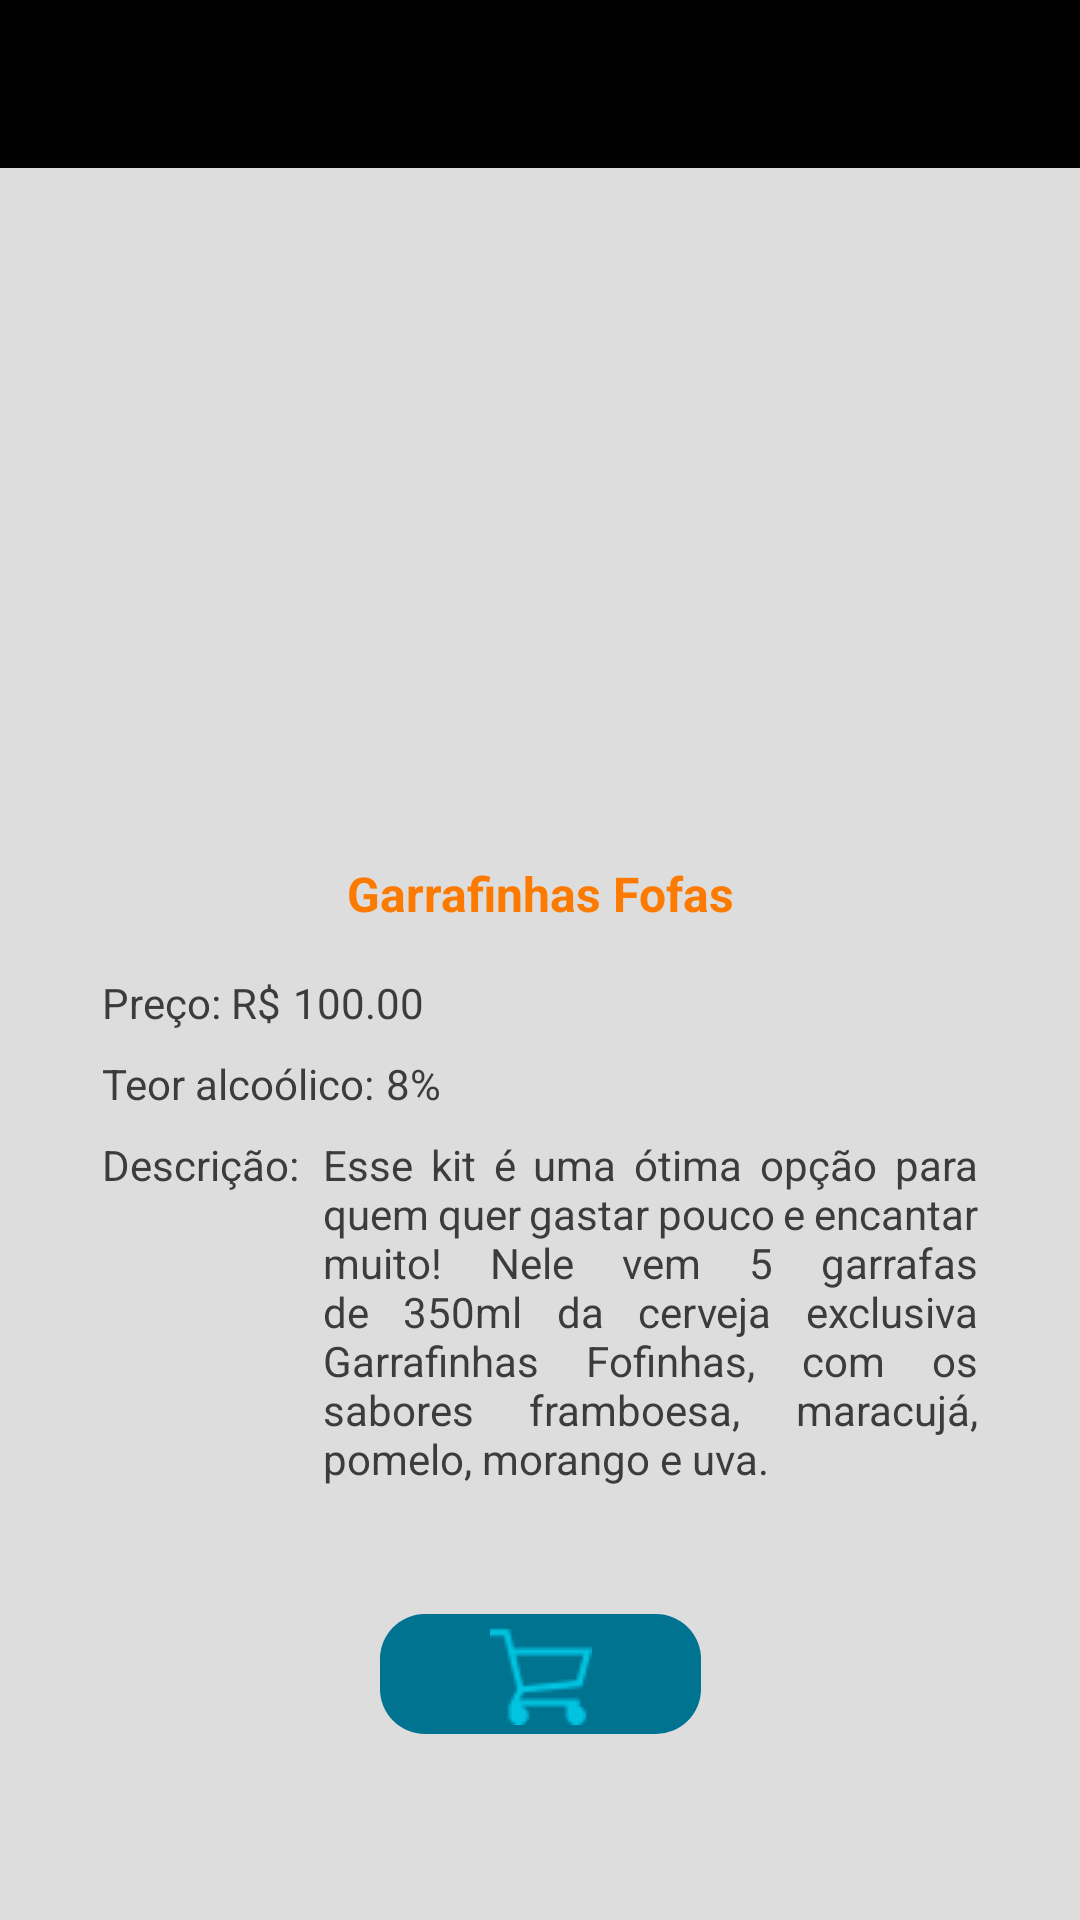

Icons on this 1080 x 1920 Android screen, each with its box as (x1, y1, x2, y2):
Colocar o item no carrinho: (380, 1614, 701, 1734)
